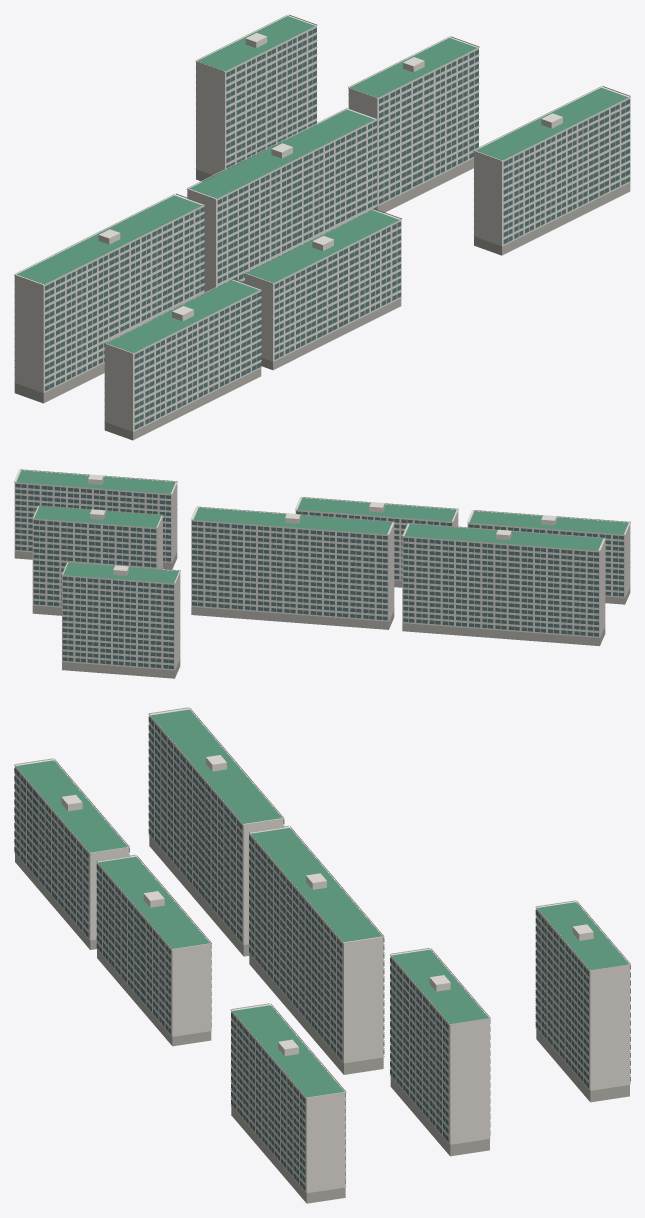
The model's file is representative-a13588402.glb.
3 renders of one model, top to bottom at view 1: azimuth 30°, elevation 25°; view 2: azimuth 150°, elevation 25°; view 3: azimuth 270°, elevation 25°, orthographic. The views are drawn at different scales.
Parts seen in each view (by area): view 1: A13588402_wall001, A13588402_glass001, A13588402_trim001, A13588402_roof001, A13588402_base001; view 2: A13588402_wall001, A13588402_glass001, A13588402_trim001, A13588402_roof001, A13588402_base001; view 3: A13588402_wall001, A13588402_glass001, A13588402_roof001, A13588402_trim001, A13588402_base001.
Part boxes in pixels (x1=…): A13588402_wall001: x1=14, y1=15, x2=630, y2=431; A13588402_glass001: x1=45, y1=27, x2=630, y2=429; A13588402_trim001: x1=14, y1=14, x2=630, y2=431; A13588402_roof001: x1=17, y1=16, x2=628, y2=352; A13588402_base001: x1=14, y1=158, x2=630, y2=440; A13588402_wall001: x1=14, y1=470, x2=630, y2=669; A13588402_glass001: x1=15, y1=483, x2=623, y2=668; A13588402_trim001: x1=14, y1=469, x2=630, y2=670; A13588402_roof001: x1=16, y1=470, x2=628, y2=583; A13588402_base001: x1=14, y1=551, x2=630, y2=678; A13588402_wall001: x1=15, y1=708, x2=629, y2=1192; A13588402_glass001: x1=14, y1=711, x2=630, y2=1190; A13588402_roof001: x1=16, y1=709, x2=628, y2=1097; A13588402_trim001: x1=14, y1=707, x2=630, y2=1192; A13588402_base001: x1=15, y1=835, x2=629, y2=1203.
Size of the model in its own units: 267 by 47.4 by 191.
